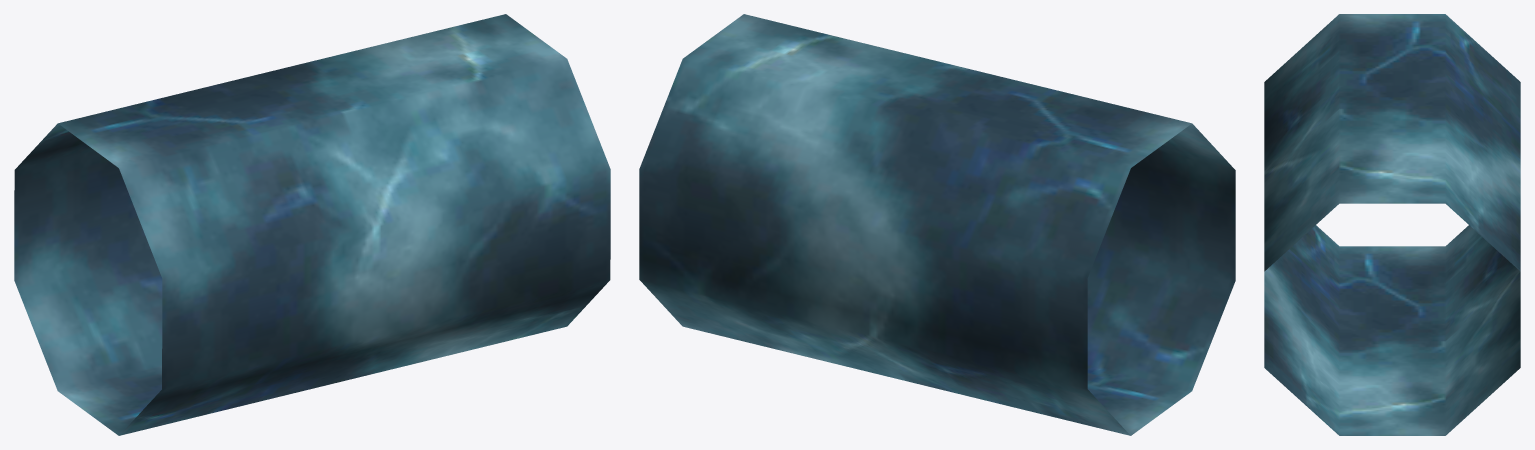
3 views of the same model, side by side, from view 1: azimuth 30°, elevation 25°; view 2: azimuth 150°, elevation 25°; view 3: azimuth 270°, elevation 25° (orthographic). The views are drawn at different scales.
Parts seen in each view (by area): view 1: tx93; view 2: tx93; view 3: tx93.
Part boxes in pixels (x1,y1,x2,y2): tx93: (14,14,610,435); tx93: (639,14,1235,435); tx93: (1264,14,1520,435).
Bounding box in the file's own units: 508 × 290 × 290.
